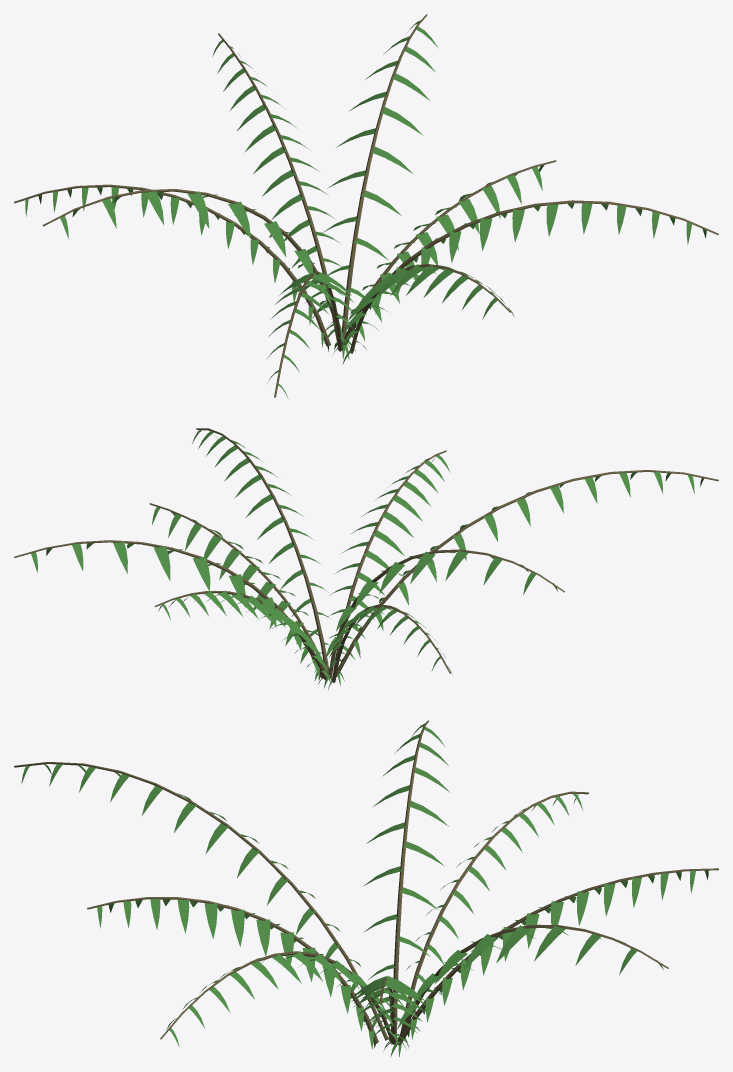
The model's file is fern_1.fbx.
3 views of the same model, one above another, from view 1: azimuth 30°, elevation 25°; view 2: azimuth 150°, elevation 25°; view 3: azimuth 270°, elevation 25° (orthographic). The views are drawn at different scales.
Visible parts, largest first — view 1: fern_1; view 2: fern_1; view 3: fern_1.
Boxes of the visible parts, x1,y1,x2,y2 form: fern_1: (14, 14, 718, 398); fern_1: (14, 428, 718, 689); fern_1: (14, 720, 718, 1057).
Bounding box in the file's own units: 1.01 × 0.3634 × 1.11.
